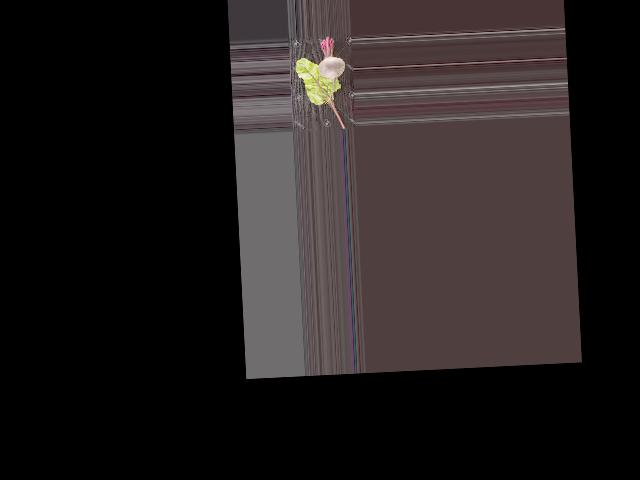beet: (317, 35, 347, 103)
